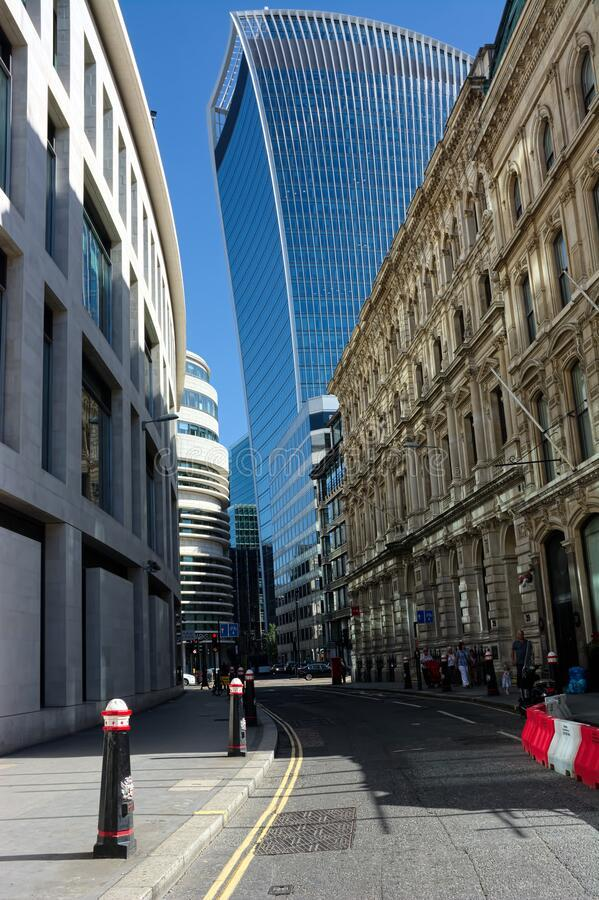Walkie talkie: (187, 6, 477, 345)
